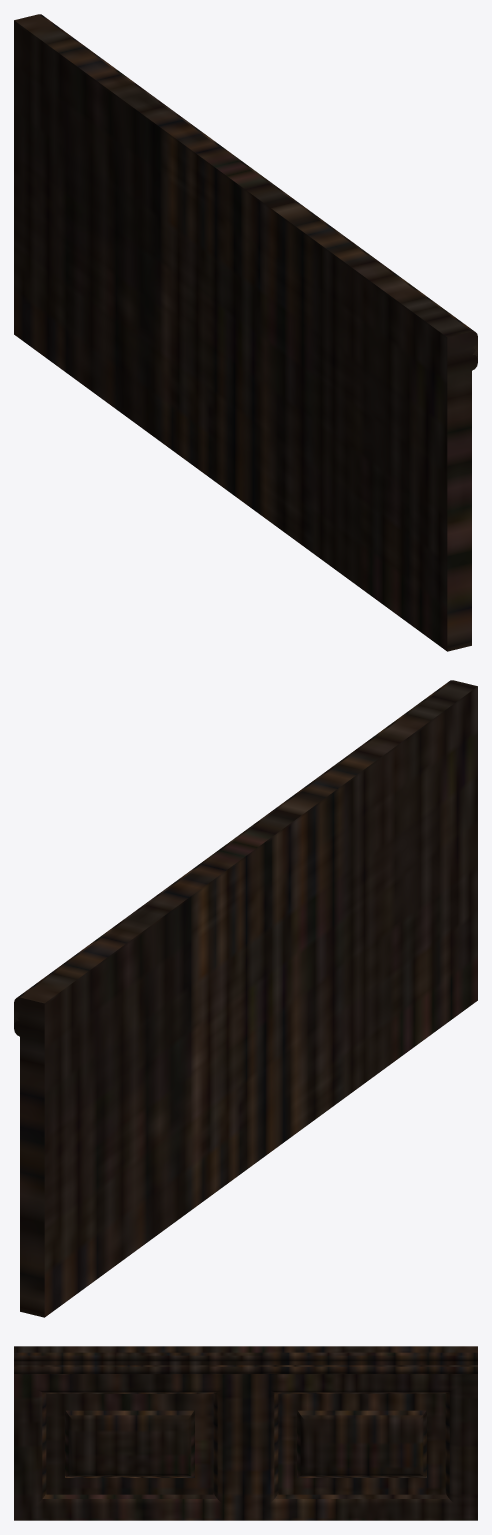
The model's file is wall-decor_5x5.fbx.
3 renders of one model, top to bottom at view 1: azimuth 30°, elevation 25°; view 2: azimuth 150°, elevation 25°; view 3: azimuth 270°, elevation 25°, orthographic. The views are drawn at different scales.
Visible parts, largest first — view 1: WallDecor; view 2: WallDecor; view 3: WallDecor.
Boxes of the visible parts, x1=… form: WallDecor: x1=14, y1=14, x2=477, y2=651; WallDecor: x1=14, y1=680, x2=477, y2=1317; WallDecor: x1=14, y1=1346, x2=477, y2=1520.
Bounding box in the file's own units: 20.39 × 200 × 500.
Materials: 1 (1 with a texture image).
